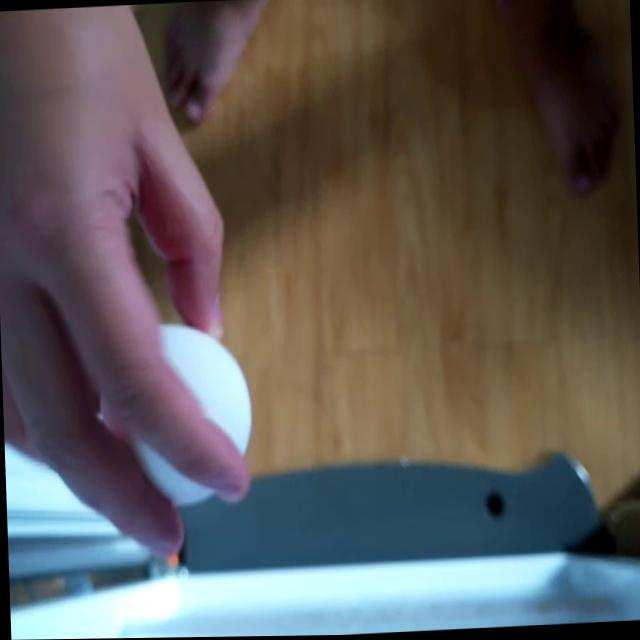egg: (127, 317, 255, 504)
